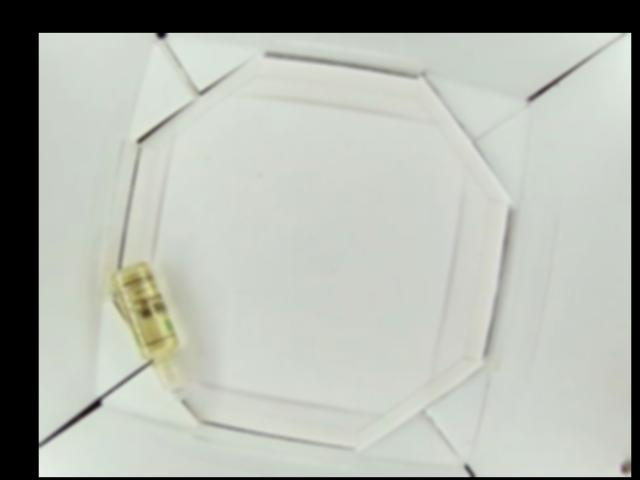Bottle: (110, 264, 191, 403)
